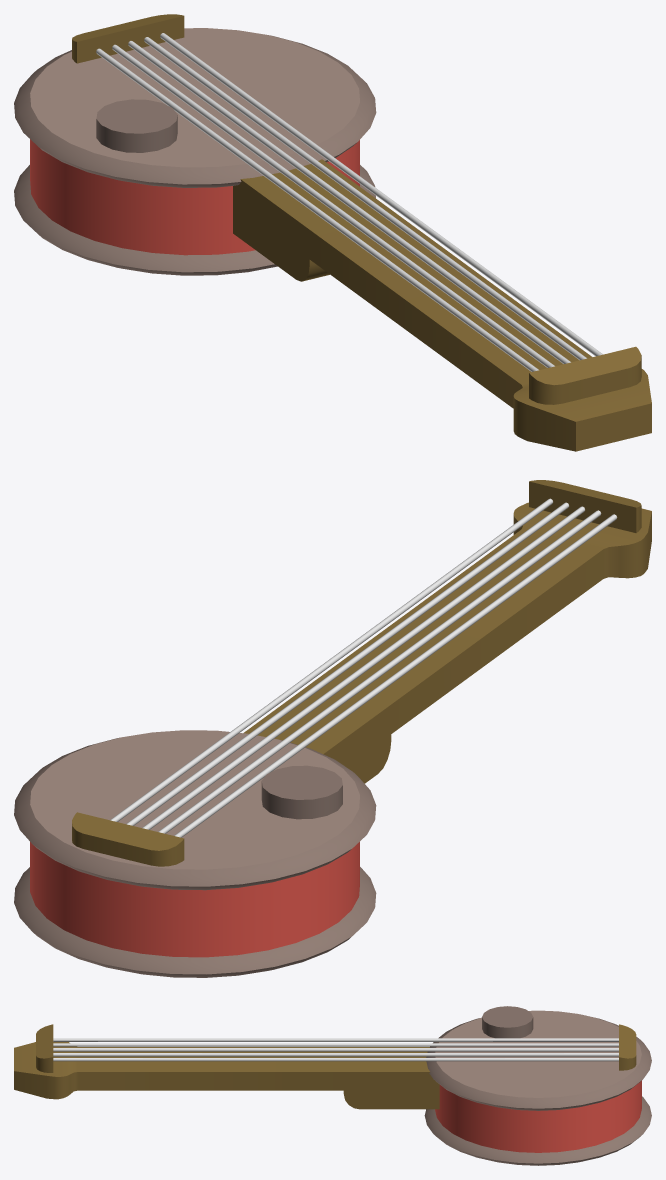
Rendered from Banjo.fbx.
The picture shows the model from 3 angles, top to bottom: view 1: azimuth 30°, elevation 25°; view 2: azimuth 150°, elevation 25°; view 3: azimuth 270°, elevation 25°; orthographic projection. The views are drawn at different scales.
Parts seen in each view (by area): view 1: Banjo; view 2: Banjo; view 3: Banjo.
Boxes of the visible parts, <box> form: Banjo: <box>14,14,651,451</box>; Banjo: <box>14,480,651,977</box>; Banjo: <box>14,1006,651,1165</box>.
Size of the model in its own units: 1.54 by 0.6102 by 4.33.
